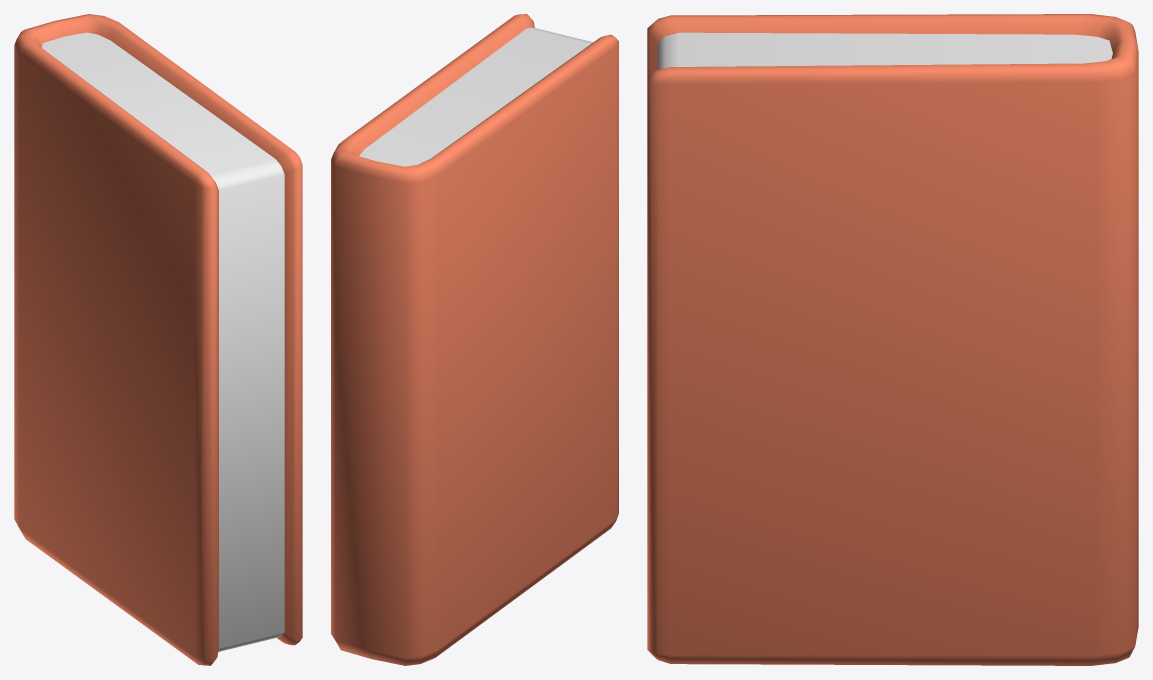
The model's file is Book04.fbx.
The picture shows the model from 3 angles, left to right: view 1: azimuth 30°, elevation 25°; view 2: azimuth 150°, elevation 25°; view 3: azimuth 270°, elevation 25°; orthographic projection. The views are drawn at different scales.
Parts seen in each view (by area): view 1: Book04; view 2: Book04; view 3: Book04.
Part boxes in pixels (box(x1,y1,x2,y2)): Book04: box(14, 14, 302, 665); Book04: box(331, 14, 618, 665); Book04: box(647, 14, 1138, 665).
Bounding box in the file's own units: 0.0443 × 0.1506 × 0.2031.
